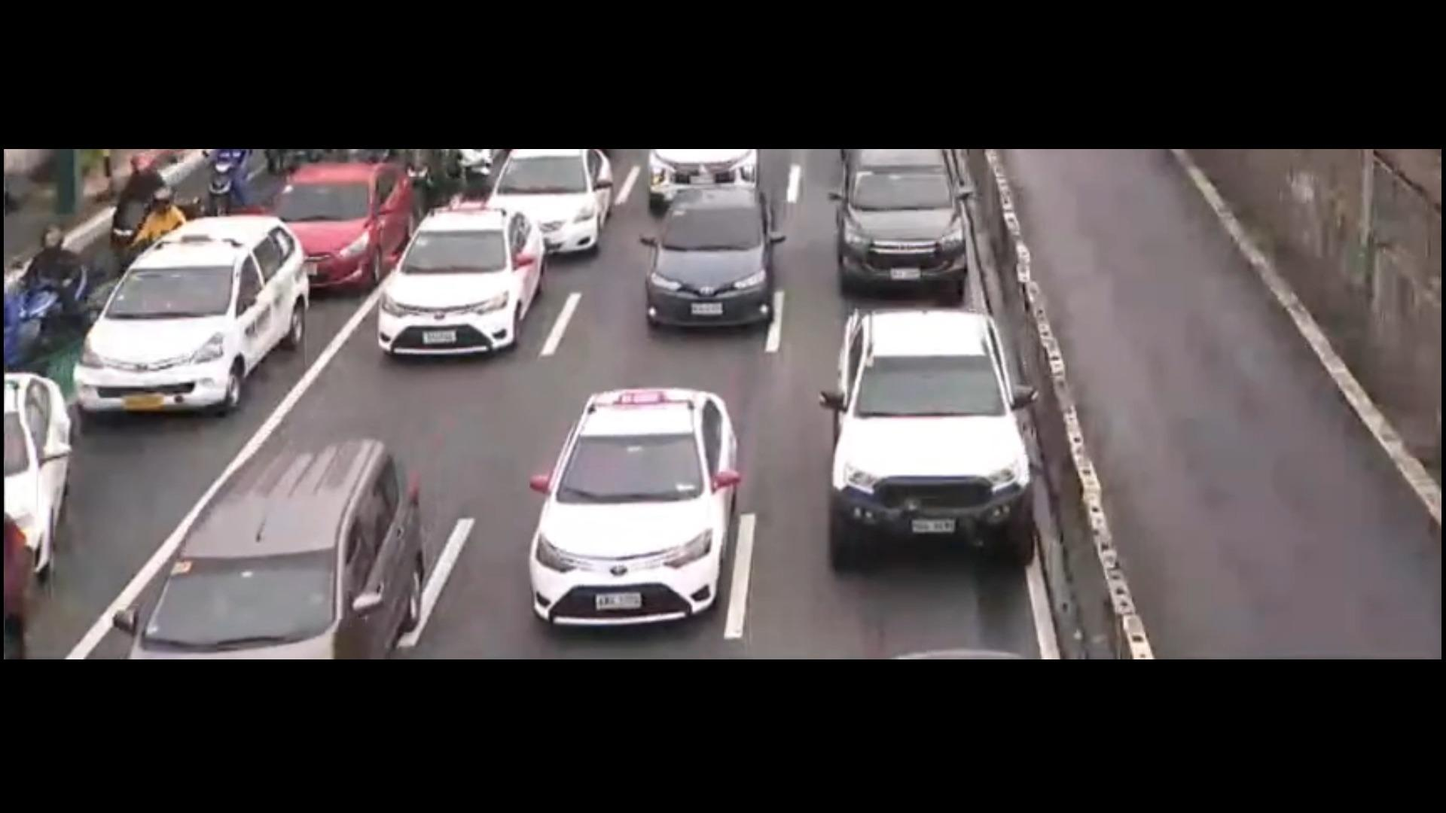Motorcycle: (11, 226, 89, 376), (108, 153, 172, 268), (200, 149, 258, 217)
SUV: (110, 440, 428, 657), (824, 313, 1031, 556), (72, 216, 313, 420), (833, 150, 966, 292), (646, 152, 761, 206)
Sedan: (526, 388, 740, 626), (375, 202, 544, 355), (645, 186, 782, 330), (272, 165, 416, 289), (5, 370, 71, 579), (489, 151, 613, 248)
